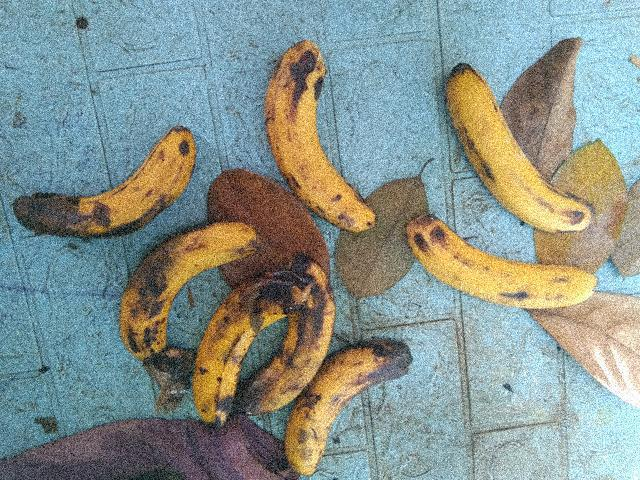overripe: (256, 27, 381, 256), (408, 208, 585, 332)
ripe: (430, 66, 596, 232)
rotten: (0, 98, 203, 254), (104, 211, 263, 374), (264, 333, 414, 468), (180, 270, 297, 435)
